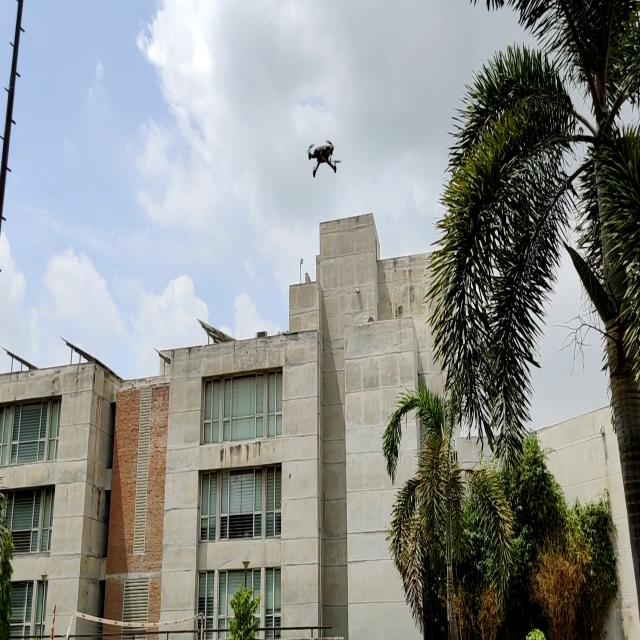drone: (297, 126, 355, 186)
